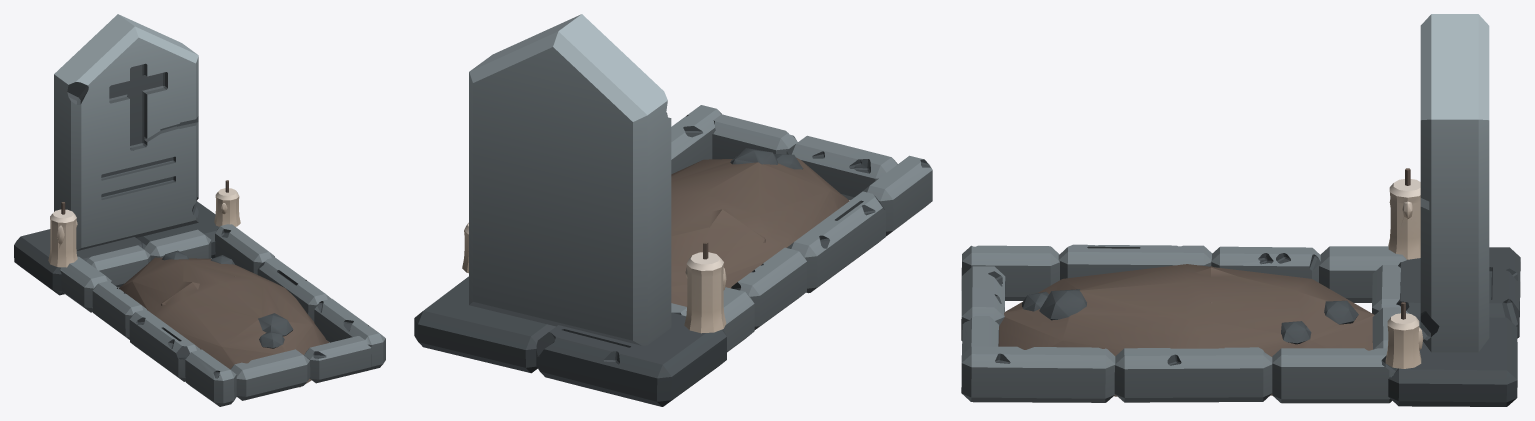
Rendered from grave_slab.glb.
3 views of the same model, side by side, from view 1: azimuth 30°, elevation 25°; view 2: azimuth 150°, elevation 25°; view 3: azimuth 270°, elevation 25° (orthographic). The views are drawn at different scales.
Parts seen in each view (by area): view 1: grave_slab; view 2: grave_slab; view 3: grave_slab.
Part boxes in pixels (<box>): grave_slab: <box>14,14,385,406</box>; grave_slab: <box>414,14,932,406</box>; grave_slab: <box>961,14,1520,406</box>.
Bounding box in the file's own units: 1.41 × 1.72 × 2.61.
1 material, 1 textured.
